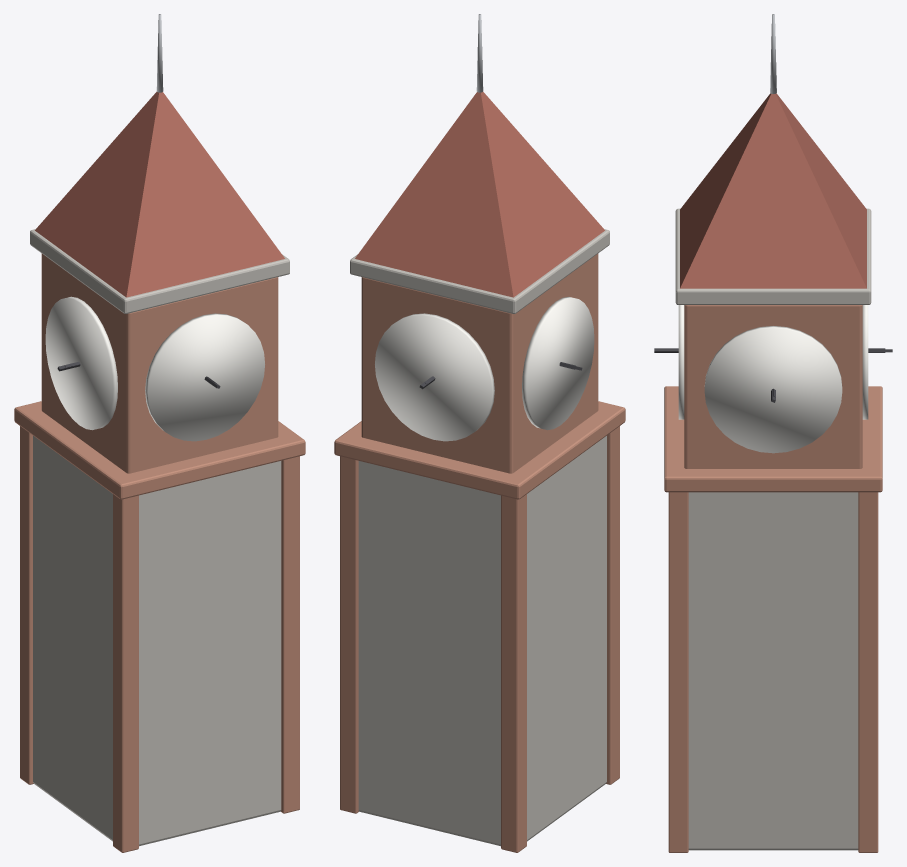
Rendered from clock_tower.glb.
3 renders of one model, left to right at view 1: azimuth 30°, elevation 25°; view 2: azimuth 150°, elevation 25°; view 3: azimuth 270°, elevation 25°, orthographic.
Visible parts, largest first — view 1: base, Cone, clockbox, face, pillar, belt, face.003, pillar.002, pillar.001, crown; view 2: base, Cone, clockbox, face.002, pillar.001, belt, face.003, pillar.003, pillar, crown; view 3: base, Cone, clockbox, face.001, belt, pillar.002, pillar.003, crown, face, face.002.
Part boxes in pixels (x1,y1,x2,y2): base: (33,436,281,846); Cone: (35,91,284,297); clockbox: (41,253,278,473); face: (145,313,264,441); pillar: (113,494,138,852); belt: (14,401,305,499); face.003: (45,296,117,430); pillar.002: (281,456,299,813); pillar.001: (20,426,33,784); crown: (30,229,289,313); base: (358,436,606,846); Cone: (355,91,604,297); clockbox: (361,253,598,473); face.002: (375,313,494,441); pillar.001: (501,494,526,852); belt: (334,401,625,499); face.003: (522,296,594,430); pillar.003: (340,456,358,813); pillar: (606,426,619,784); crown: (350,229,609,313); base: (688,492,858,850); Cone: (680,93,866,288); clockbox: (684,305,862,468); face.001: (704,326,842,453); belt: (664,386,882,492); pillar.002: (668,492,688,852); pillar.003: (858,492,878,852); crown: (675,208,871,304); face: (678,305,684,419); face.002: (862,305,868,419).
Bounding box in the file's own units: 8.29 × 30.5 × 8.29.
